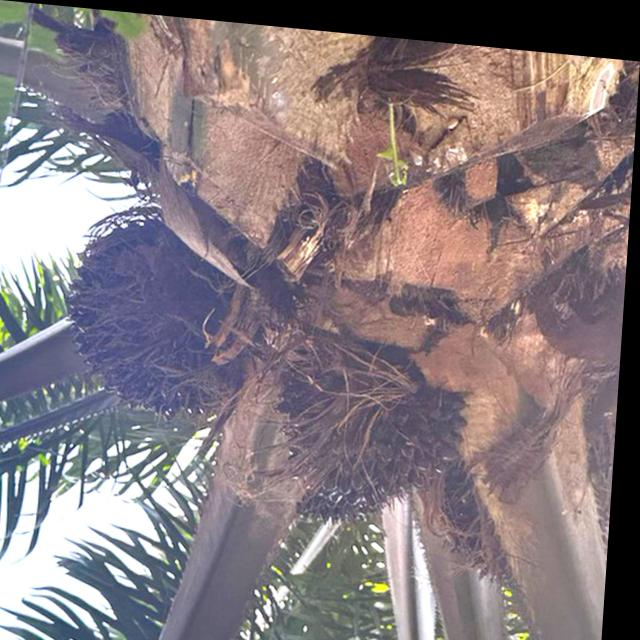almost: (278, 354, 477, 536)
